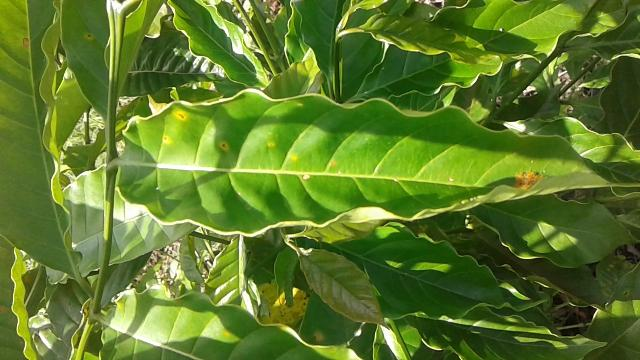rust_level_1: (110, 86, 640, 244)
